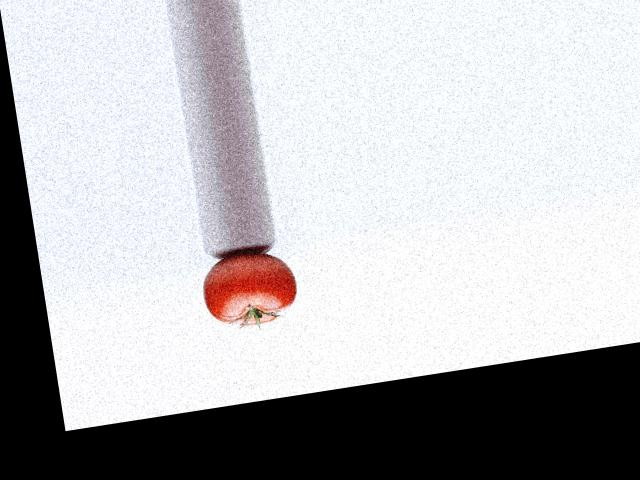tomato: (198, 247, 301, 332)
